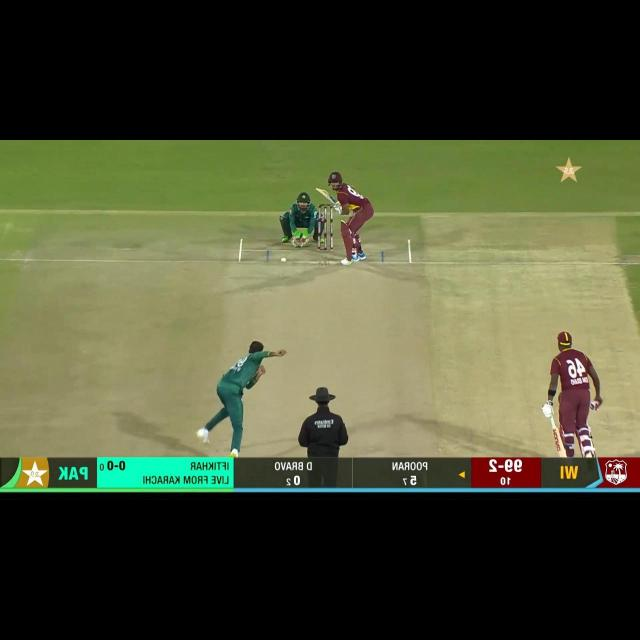bat: (314, 186, 338, 206), (552, 427, 567, 459)
toe: (312, 184, 326, 198), (558, 449, 567, 460)
